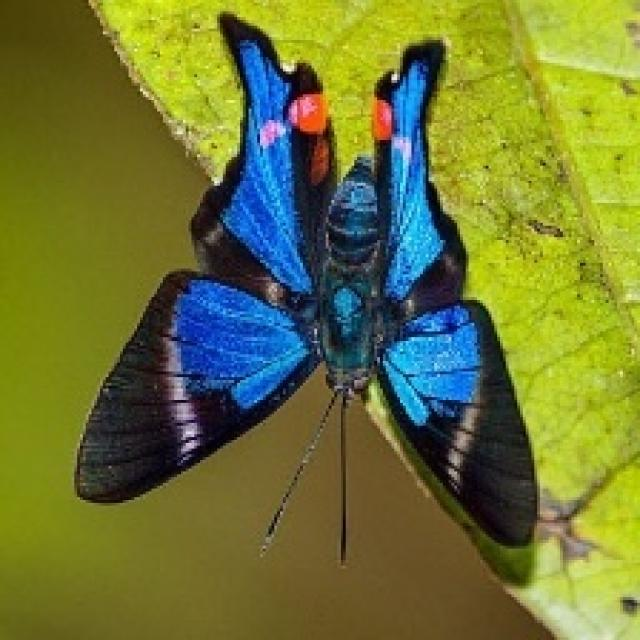butterfly: (71, 8, 540, 566)
